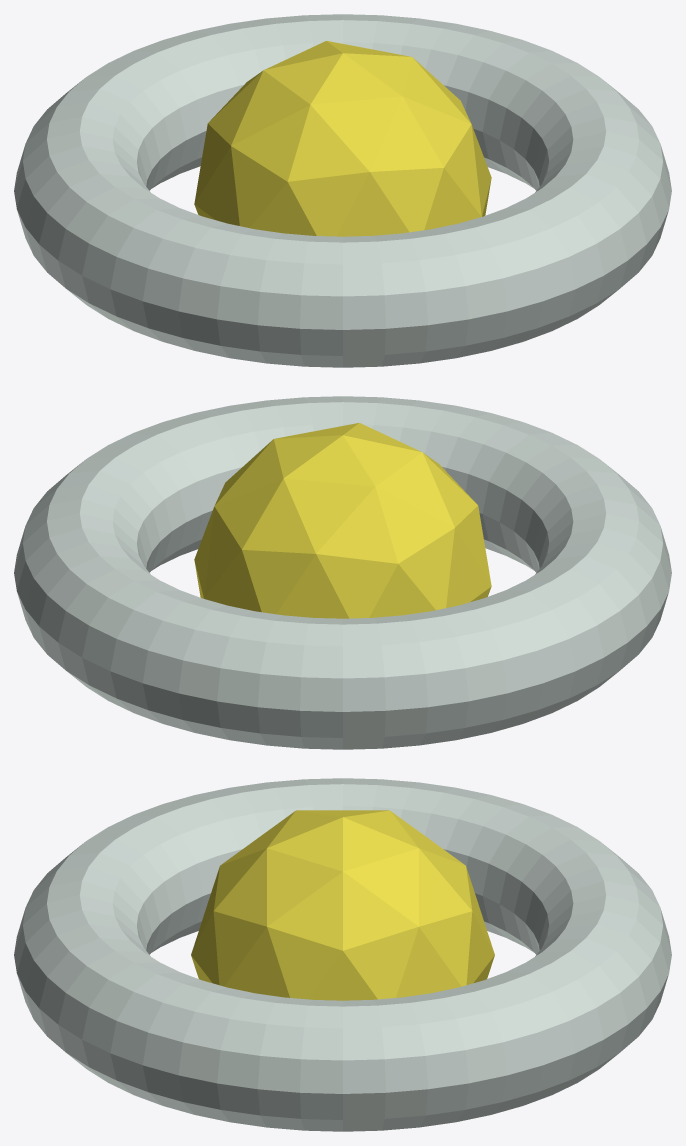
The model's file is kyuu2.fbx.
3 views of the same model, one above another, from view 1: azimuth 30°, elevation 25°; view 2: azimuth 150°, elevation 25°; view 3: azimuth 270°, elevation 25° (orthographic).
Visible parts, largest first — view 1: トーラス; view 2: トーラス; view 3: トーラス.
Part boxes in pixels (x1,y1,x2,y2): トーラス: (14, 14, 671, 367); トーラス: (14, 396, 671, 749); トーラス: (14, 778, 671, 1131).
Size of the model in its own units: 4.33 by 2 by 4.33.
